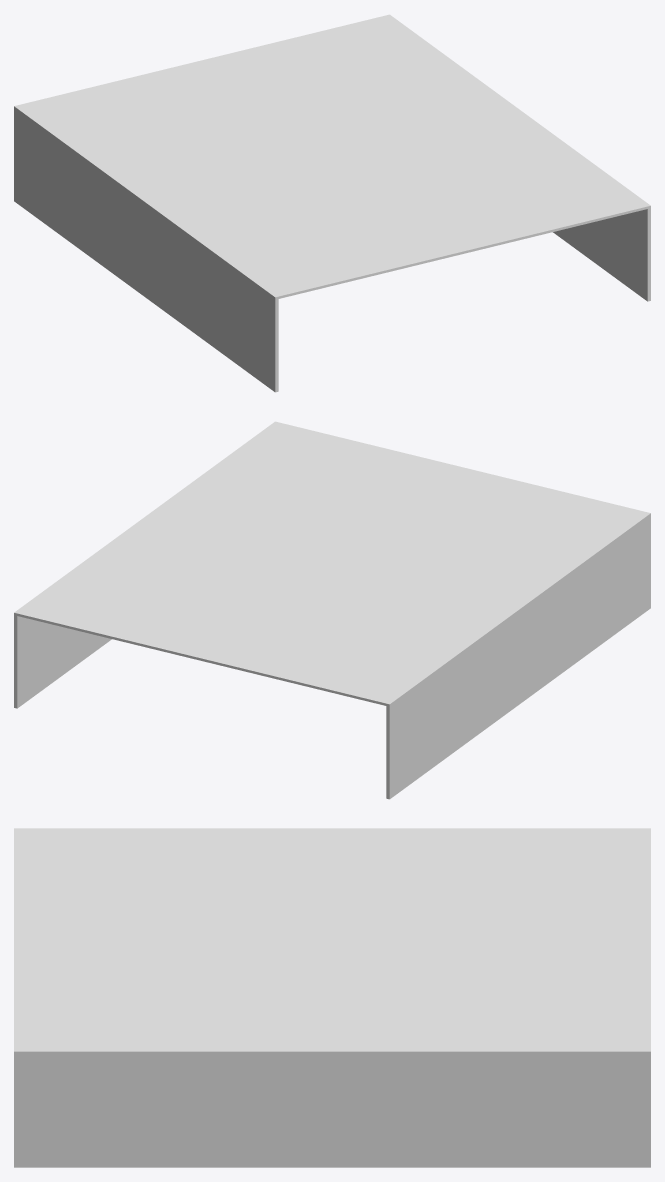
Rendered from Itr_Bed_Double_Sheet_01.FBX.
3 renders of one model, top to bottom at view 1: azimuth 30°, elevation 25°; view 2: azimuth 150°, elevation 25°; view 3: azimuth 270°, elevation 25°, orthographic. The views are drawn at different scales.
Parts seen in each view (by area): view 1: Itr_Bed_Double_Sheet_01; view 2: Itr_Bed_Double_Sheet_01; view 3: Itr_Bed_Double_Sheet_01.
Part boxes in pixels (x1,y1,x2,y2): Itr_Bed_Double_Sheet_01: (14,14,650,392); Itr_Bed_Double_Sheet_01: (14,421,650,799); Itr_Bed_Double_Sheet_01: (14,828,650,1167).
Bounding box in the file's own units: 67.1 × 16.23 × 80.8.
